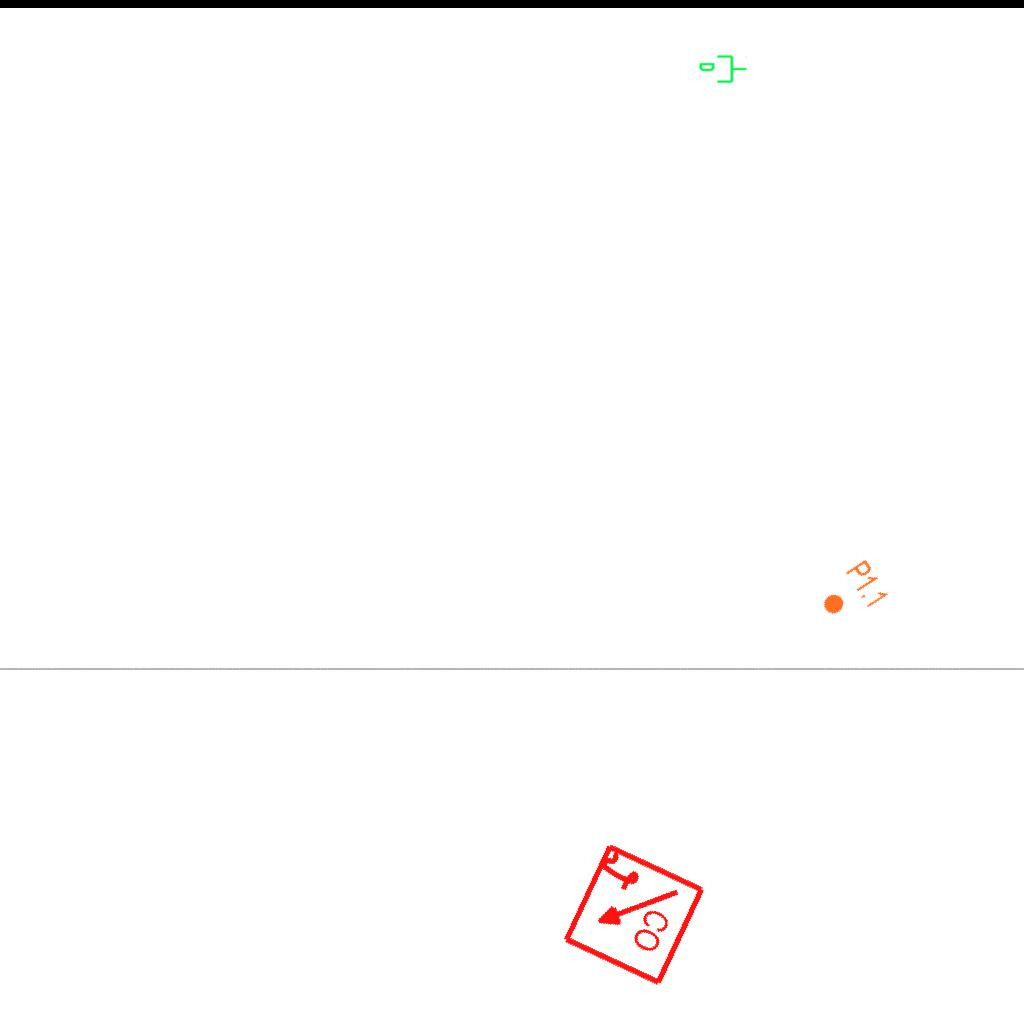Datenanschluss_einfach: (698, 53, 748, 87)
Downlight_LED_Einbauleuchten_Flur: (812, 557, 892, 631)
ROA_Rauchmelder_optisch_mit_Signalgeber_(Sockelsirene): (557, 839, 708, 990)
